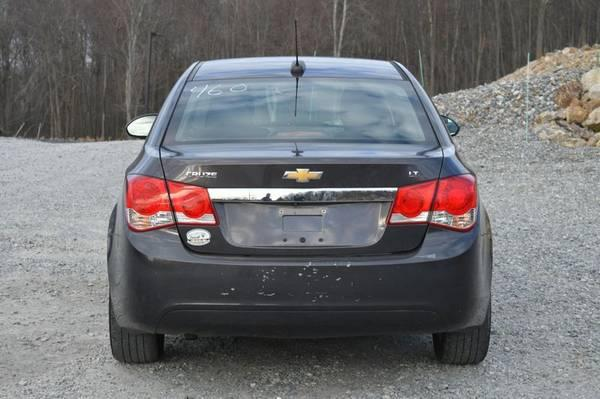Left_Taillight: (123, 177, 215, 236)
Rear_Bumper: (107, 193, 492, 335)
Rear_Windshield: (158, 76, 436, 147)
Right_Taillight: (386, 175, 477, 233)
Roof: (147, 58, 452, 150)
Tailgate: (125, 144, 468, 262)
Wheel: (434, 304, 491, 367), (108, 303, 164, 365)
